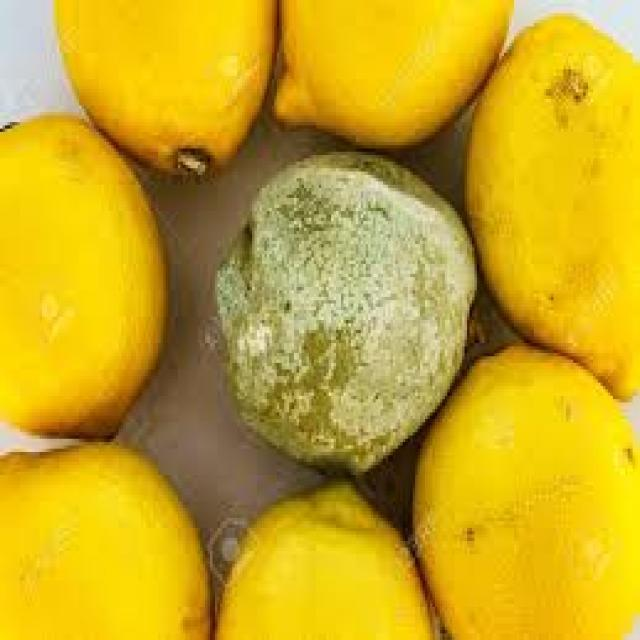Ripe: (0, 112, 169, 442), (217, 475, 437, 640)
Rotten: (204, 145, 483, 474)
